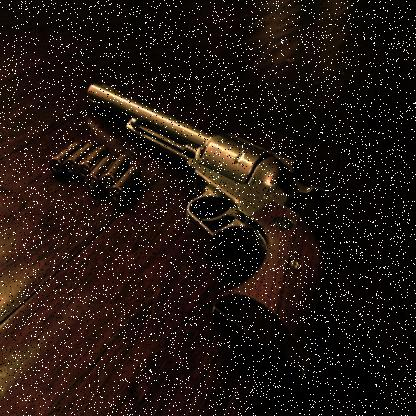pistol: (85, 79, 321, 387)
